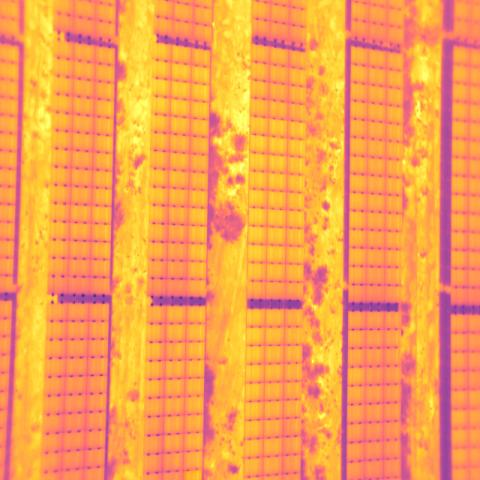fault: (183, 470, 203, 480)
